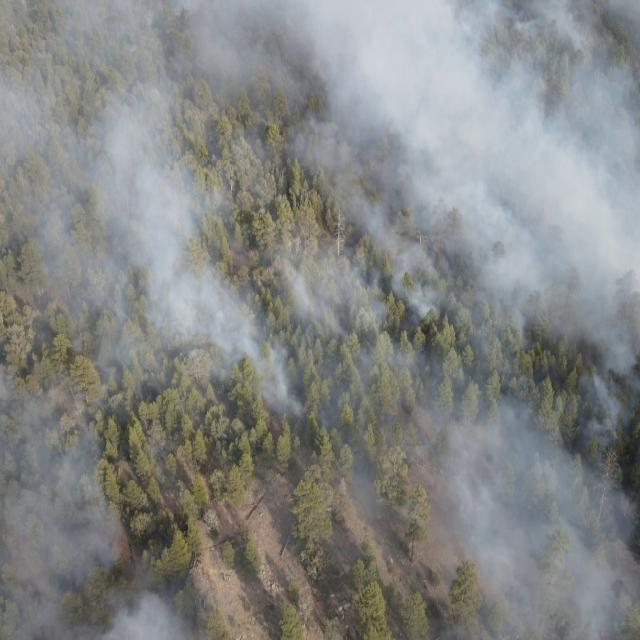fire: (592, 629, 608, 640)
smoke: (0, 0, 640, 366), (0, 360, 203, 640), (352, 481, 640, 640), (259, 360, 640, 480)
